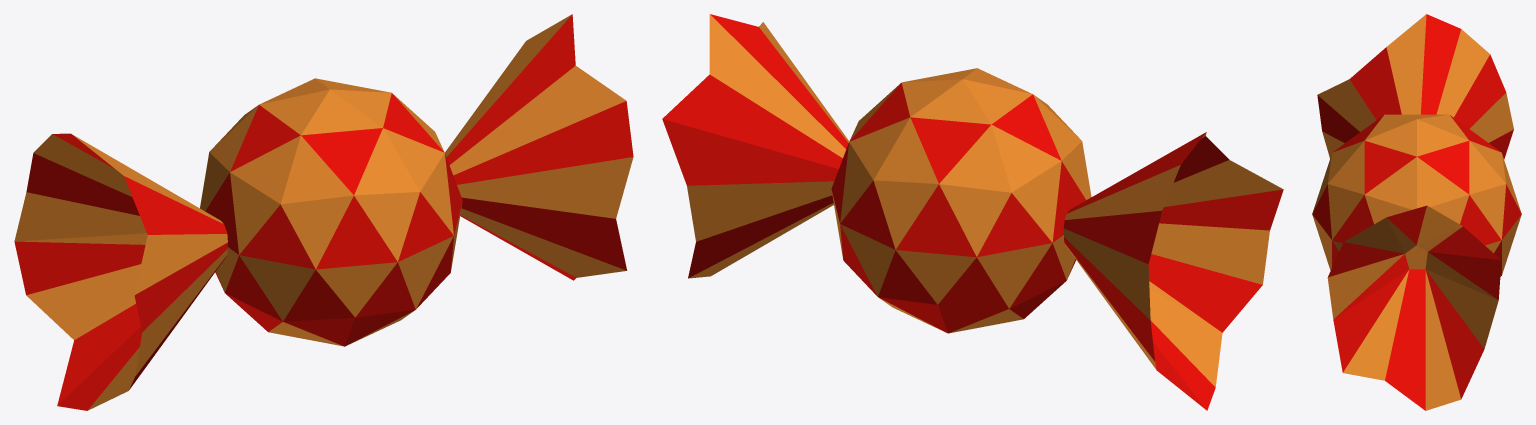
File: Taffy03.fbx
3 renders of one model, left to right at view 1: azimuth 30°, elevation 25°; view 2: azimuth 150°, elevation 25°; view 3: azimuth 270°, elevation 25°, orthographic. The views are drawn at different scales.
Visible parts, largest first — view 1: Candy; view 2: Candy; view 3: Candy.
Part boxes in pixels (x1,y1,x2,y2): Candy: (14,14,633,410); Candy: (662,14,1283,410); Candy: (1312,14,1521,410).
Bounding box in the file's own units: 390 × 202 × 180.
